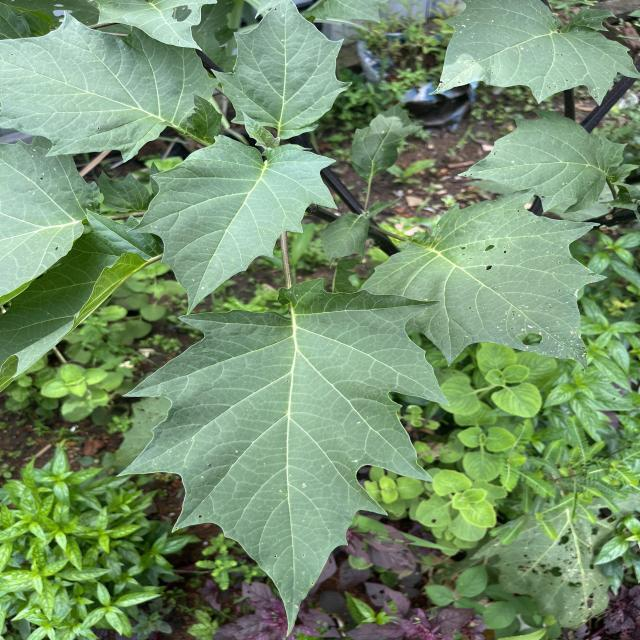Datura metal linn: (108, 271, 454, 639), (356, 182, 611, 377), (124, 131, 342, 314), (426, 0, 640, 112), (208, 0, 356, 141), (454, 108, 630, 216)
